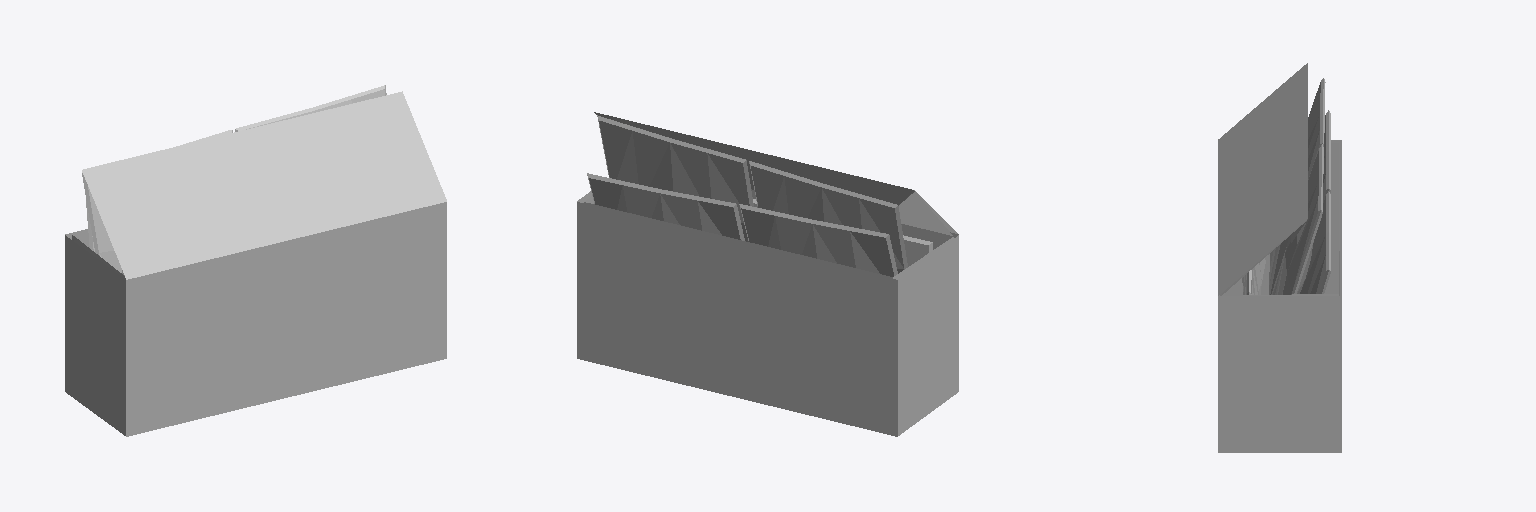
Rendered from alcoholWipes.obj.
3 views of the same model, side by side, from view 1: azimuth 30°, elevation 25°; view 2: azimuth 150°, elevation 25°; view 3: azimuth 270°, elevation 25° (orthographic).
Visible parts, largest first — view 1: polySurface16; view 2: polySurface16; view 3: polySurface16.
Boxes of the visible parts, x1,y1,x2,y2 form: polySurface16: [65, 85, 446, 436]; polySurface16: [577, 112, 958, 436]; polySurface16: [1218, 63, 1341, 452].
Size of the model in its own units: 24.05 by 17.06 by 8.04.